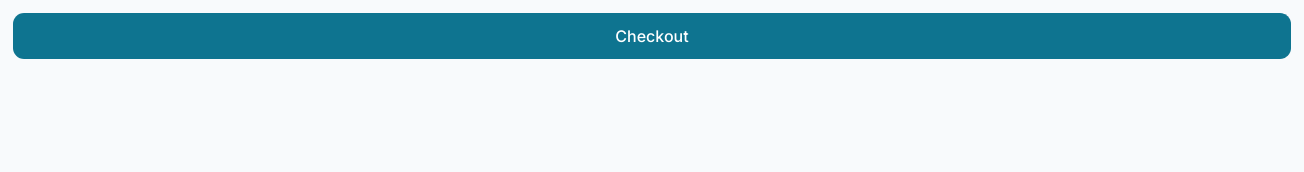
Test case: CheckoutButton › 410 FARE_NO_LONGER_AVAILABLE → message + "Search again" with the original search
Click the button "Checkout": click(652, 36) 12,12 -> 1292,60
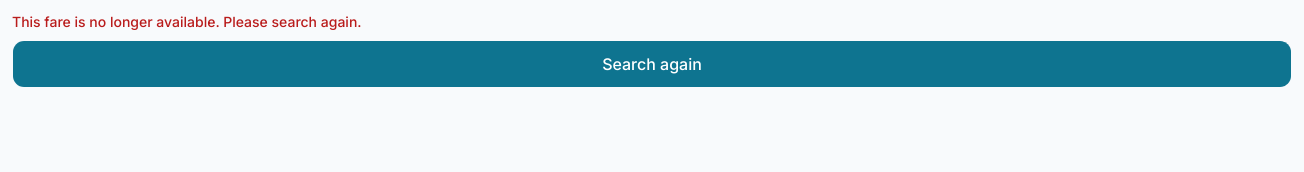
Expected: the message reads "This fare is no longer available. Please search again.", 12,13 -> 362,30
Expected: the button "Checkout" is gone
